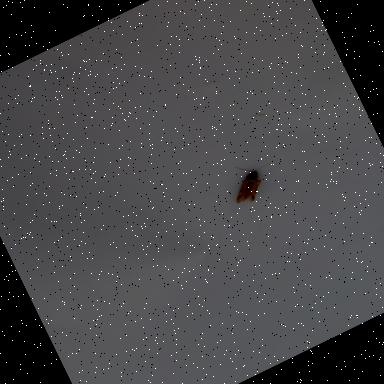abw: (214, 146, 287, 214)
